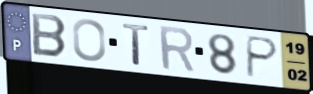8: (205, 32, 241, 76)
B: (30, 11, 70, 60)
O: (70, 17, 108, 63)
P: (244, 34, 281, 80)
R: (156, 24, 198, 75)
T: (120, 22, 152, 68)
